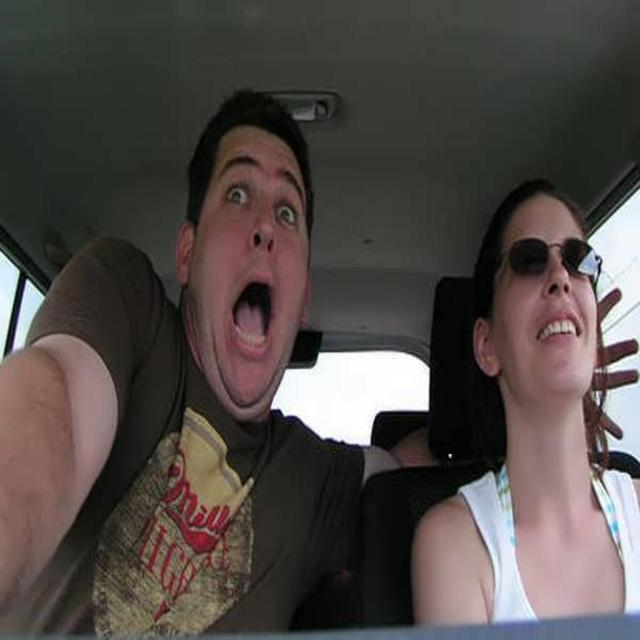Face: (188, 116, 328, 418), (479, 189, 616, 401)
